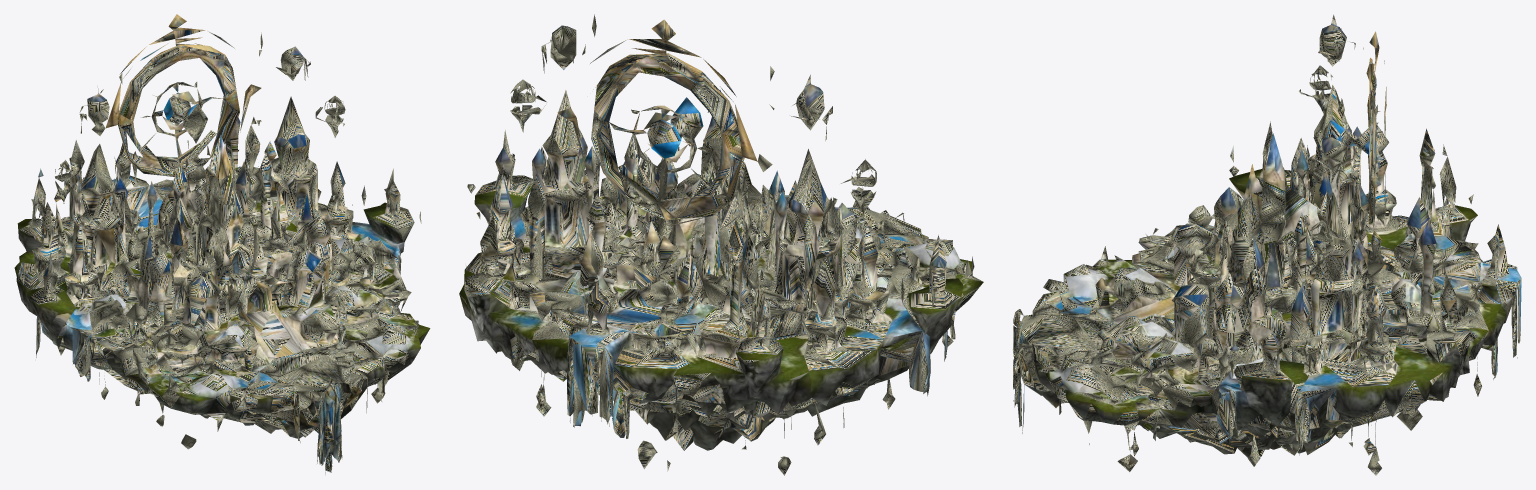
The model's file is Celestial_Citadel_of_.glb.
3 views of the same model, side by side, from view 1: azimuth 30°, elevation 25°; view 2: azimuth 150°, elevation 25°; view 3: azimuth 270°, elevation 25° (orthographic). The views are drawn at different scales.
Visible parts, largest first — view 1: Celestial_Citadel_of_; view 2: Celestial_Citadel_of_; view 3: Celestial_Citadel_of_.
Part boxes in pixels (left/top/right/bottom): Celestial_Citadel_of_: left=14, top=14, right=430, bottom=474; Celestial_Citadel_of_: left=459, top=14, right=983, bottom=475; Celestial_Citadel_of_: left=1012, top=14, right=1521, bottom=475.
Size of the model in its own units: 1.86 by 1.75 by 1.89.
1 material, 1 textured.
